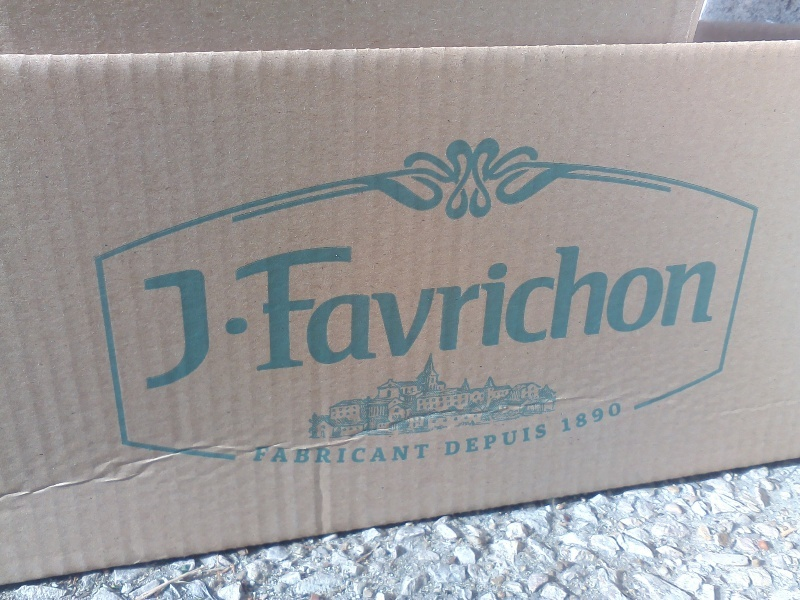text: (145, 232, 160, 393), (161, 232, 176, 393), (177, 232, 192, 393), (193, 232, 208, 393), (209, 232, 224, 393), (225, 232, 240, 393), (241, 232, 256, 393), (257, 232, 272, 393), (273, 232, 288, 393), (289, 232, 304, 393), (305, 232, 320, 393), (321, 232, 336, 393), (337, 232, 352, 393), (353, 232, 368, 393), (369, 232, 384, 393), (385, 232, 400, 393), (401, 232, 416, 393), (417, 232, 432, 393), (433, 232, 448, 393), (449, 232, 464, 393), (465, 232, 480, 393), (481, 232, 496, 393), (497, 232, 512, 393), (513, 232, 528, 393), (529, 232, 544, 393), (545, 232, 560, 393), (561, 232, 576, 393), (577, 232, 592, 393), (593, 232, 608, 393), (609, 232, 624, 393), (625, 232, 640, 393), (641, 232, 656, 393), (657, 232, 672, 393), (673, 232, 688, 393), (689, 232, 704, 393), (705, 232, 720, 393), (135, 232, 144, 393), (721, 232, 729, 393), (449, 422, 464, 458), (465, 422, 480, 458), (481, 422, 496, 458), (497, 422, 512, 458), (513, 422, 528, 458), (529, 422, 544, 458), (561, 400, 576, 434), (577, 400, 592, 434), (593, 400, 608, 434), (609, 400, 624, 434), (417, 440, 433, 466), (257, 440, 272, 466), (273, 440, 288, 466), (289, 440, 304, 466), (305, 440, 320, 466), (321, 440, 336, 466), (337, 440, 352, 466), (353, 440, 368, 466), (369, 440, 384, 466), (385, 440, 400, 466), (401, 440, 416, 466), (441, 422, 448, 458), (545, 422, 549, 458), (255, 440, 256, 466)
